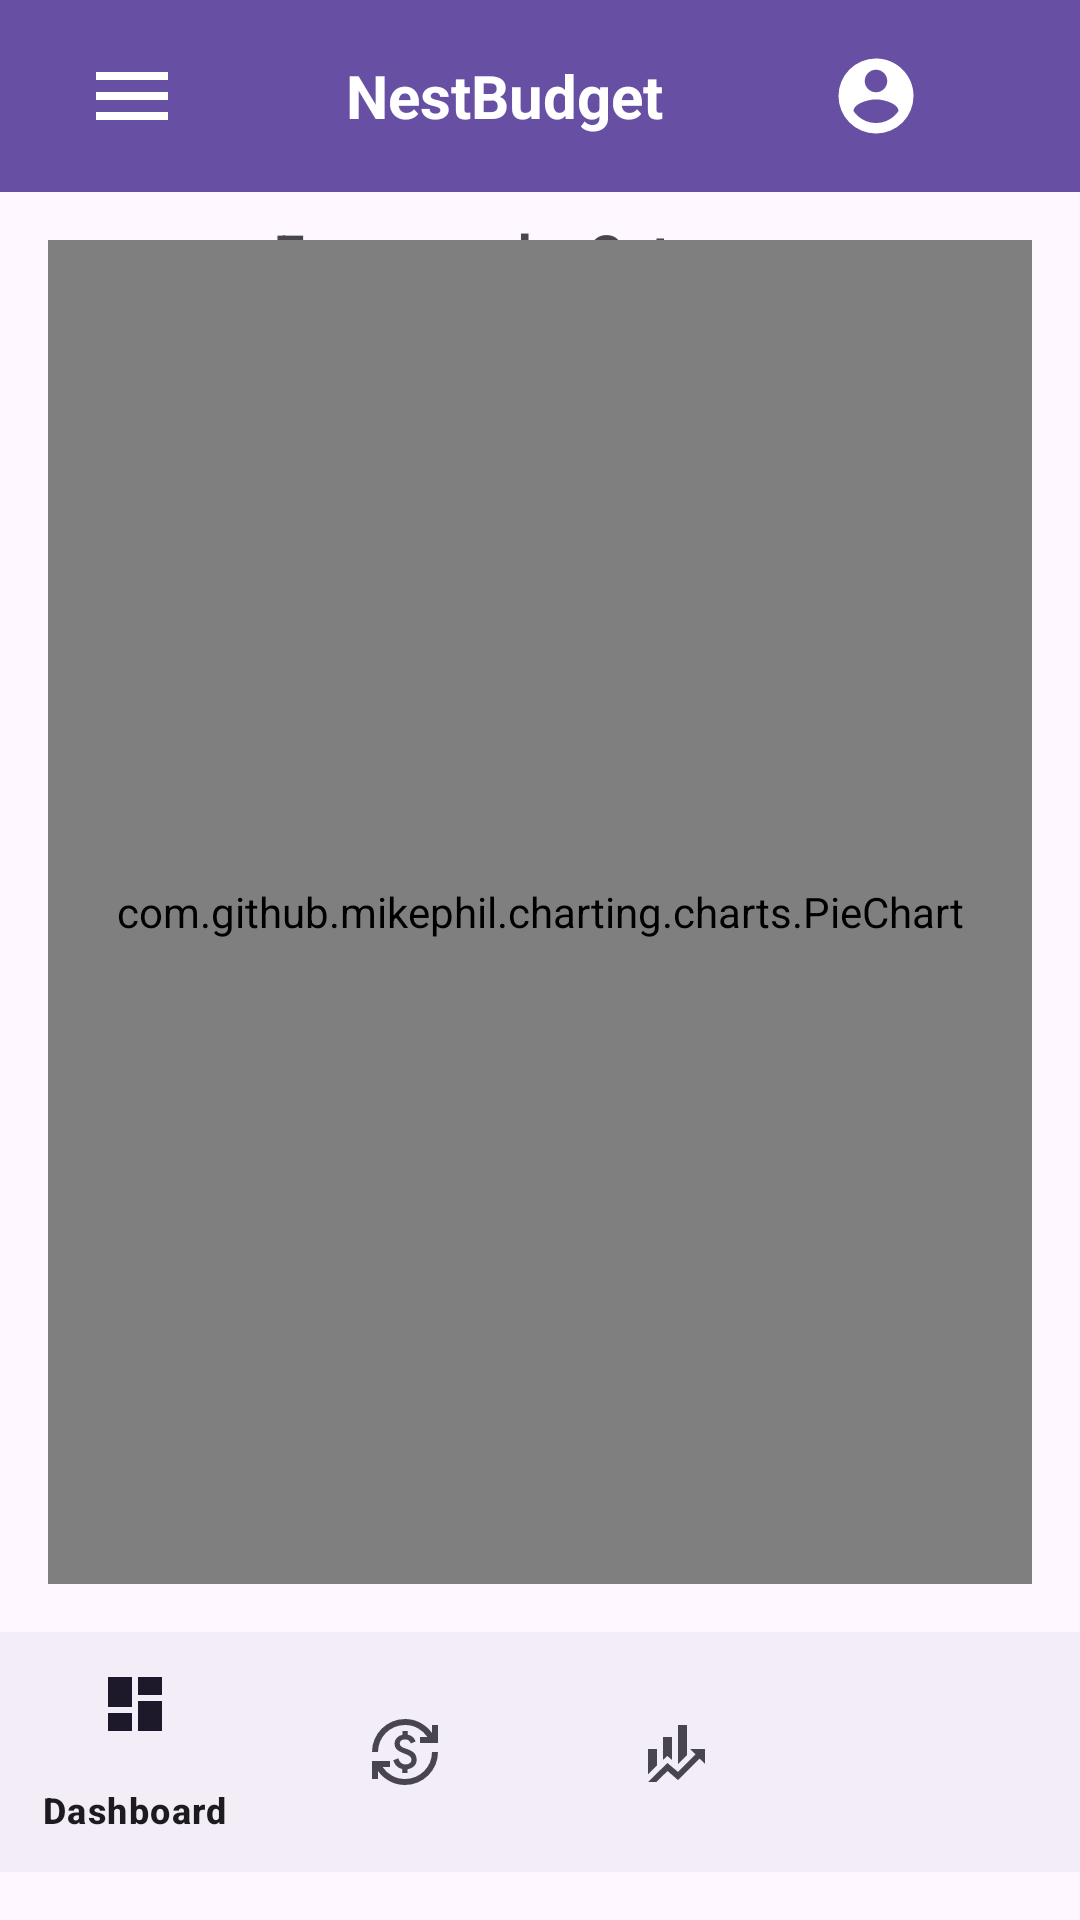

Where to tap for icons on this 1080 × 1920 app screen, as (x,y):
menu: (132,96)
profile: (876,96)
